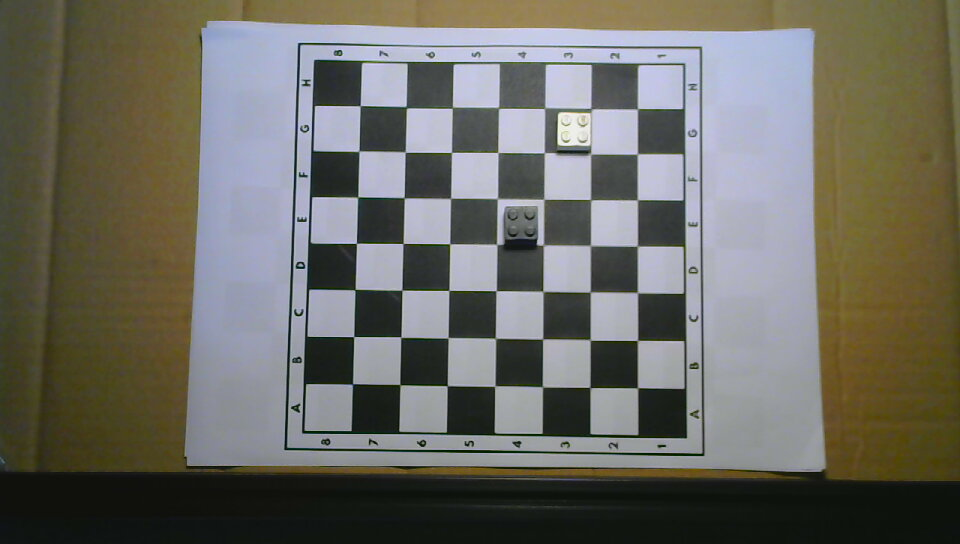bp: (503, 205, 540, 245)
wp: (555, 111, 592, 153)
